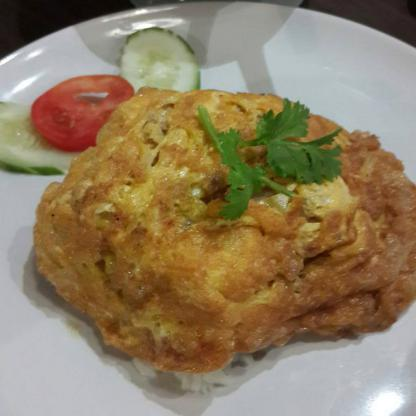Omelette: (25, 69, 416, 387)
